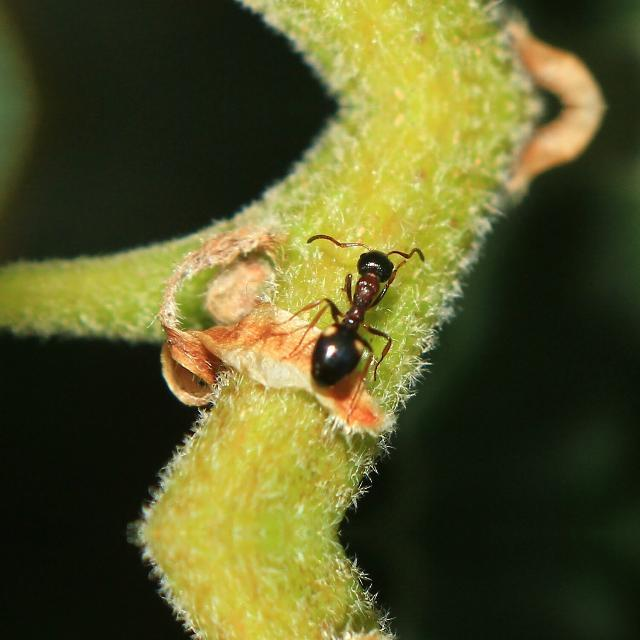Dolichoderus: (278, 223, 436, 407)
